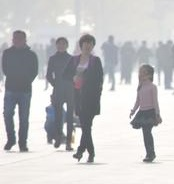person: (66, 33, 104, 163), (2, 29, 39, 153), (129, 64, 164, 163), (46, 37, 76, 152), (100, 35, 118, 92), (155, 40, 172, 90), (119, 41, 135, 85), (34, 43, 46, 80), (137, 40, 153, 65), (46, 38, 58, 55)
